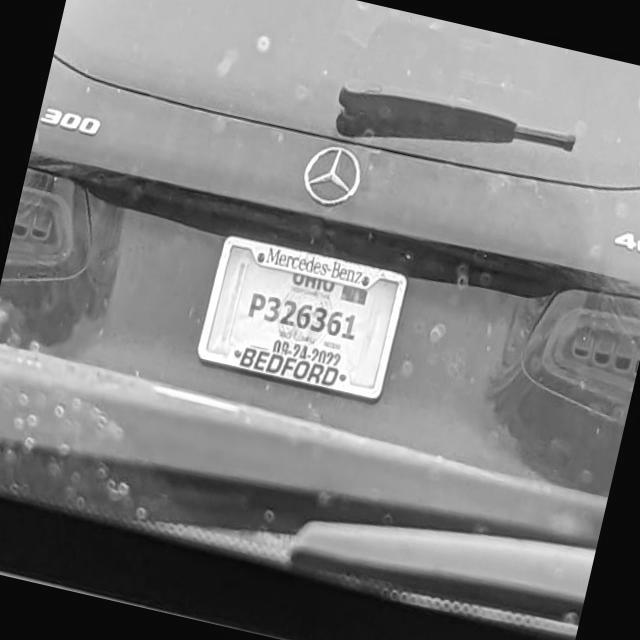LicensePlate: (193, 233, 409, 405)
